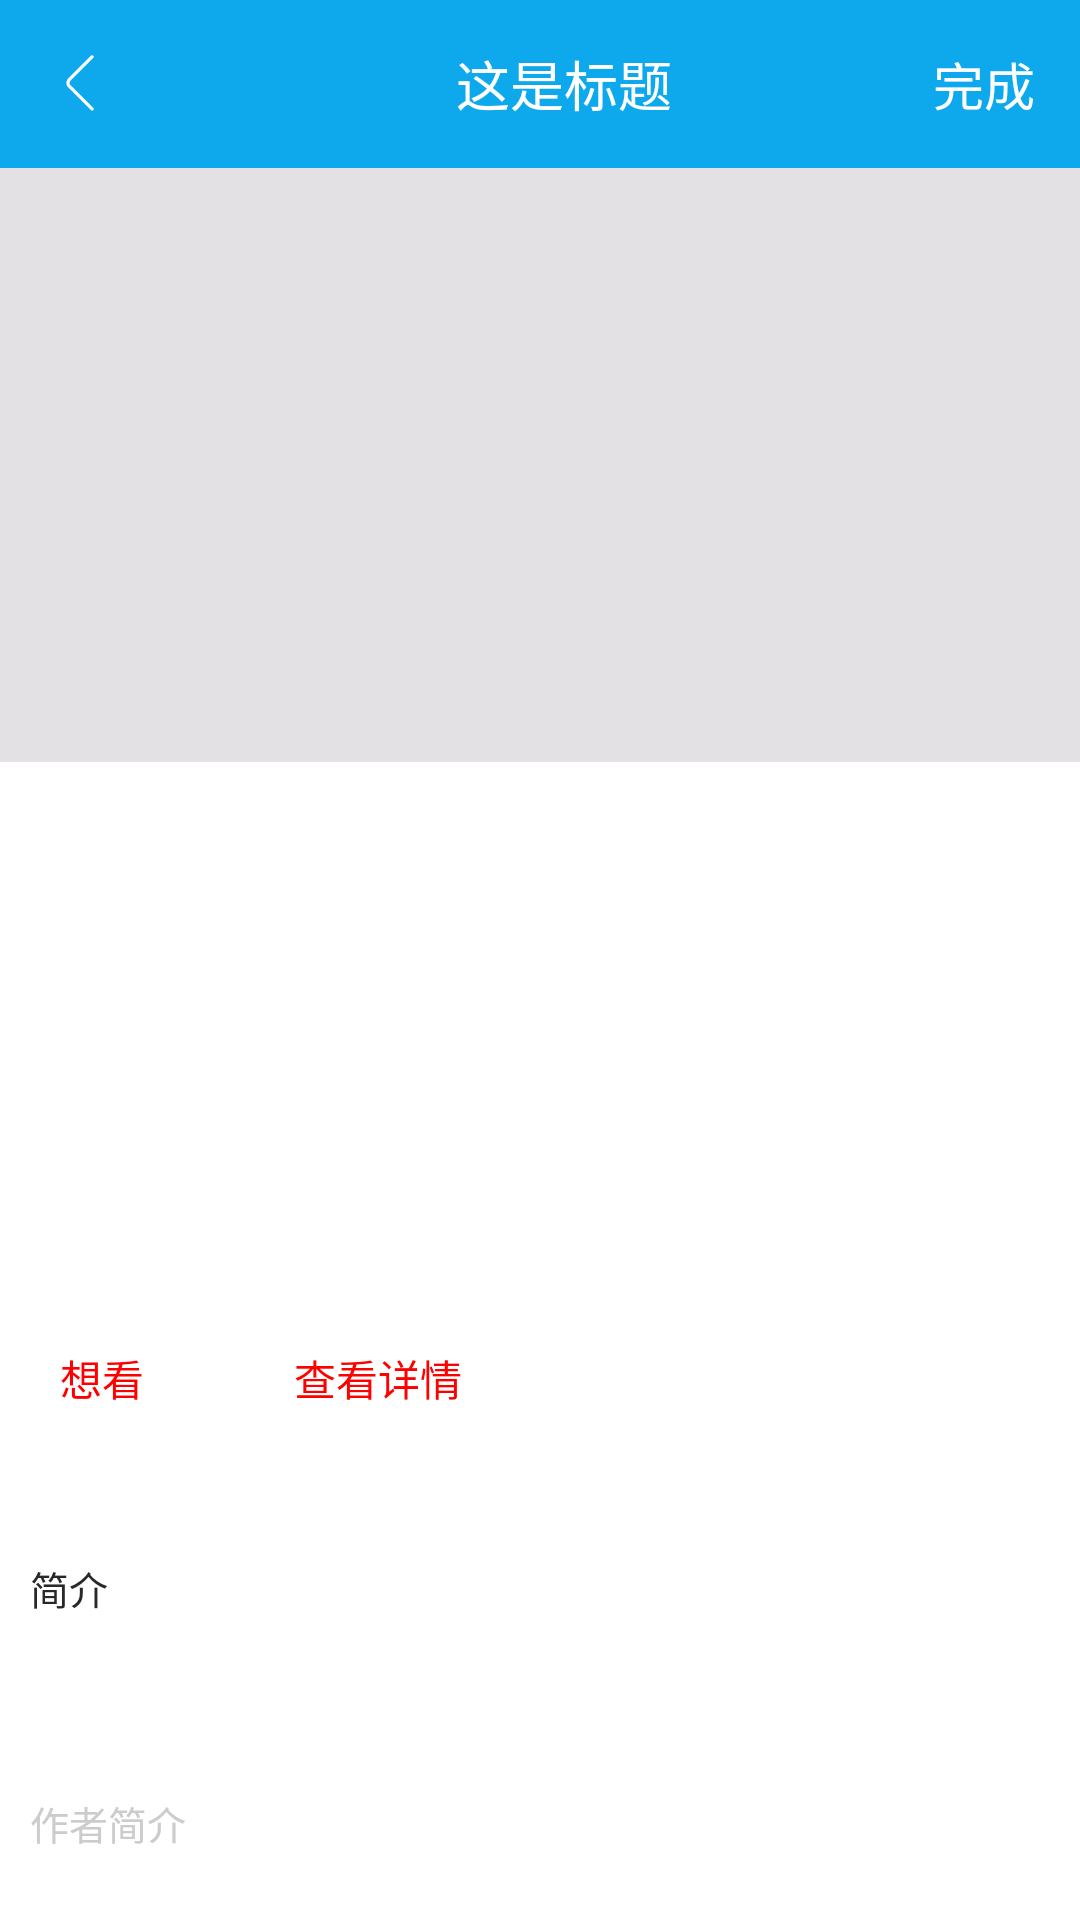

Where to tap for icons on this 1080 × 1920 app screen, as point (x, y):
back: point (80, 83)
